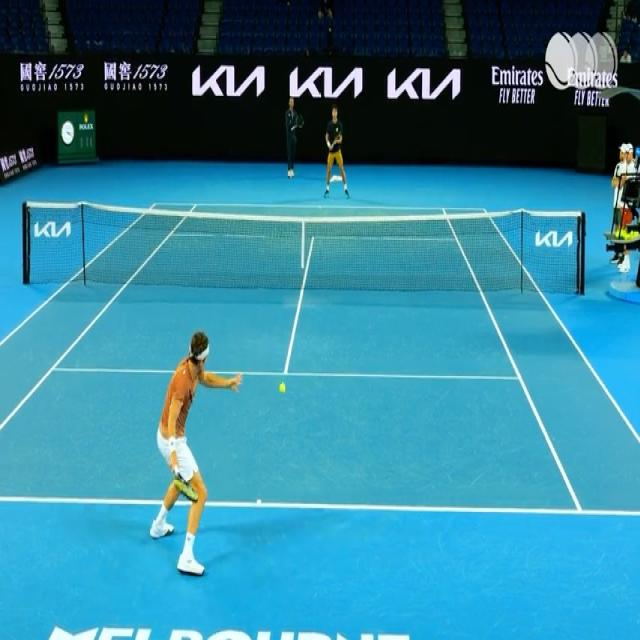forehand-ready: (151, 328, 245, 574)
